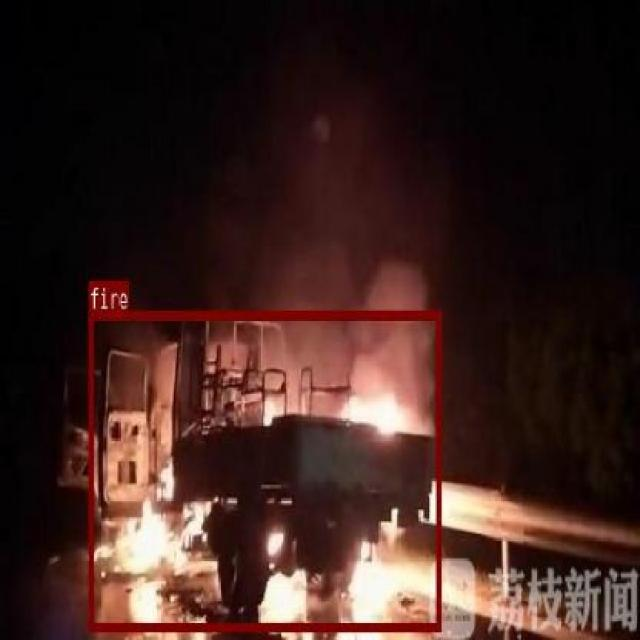fire: (88, 308, 440, 630)
